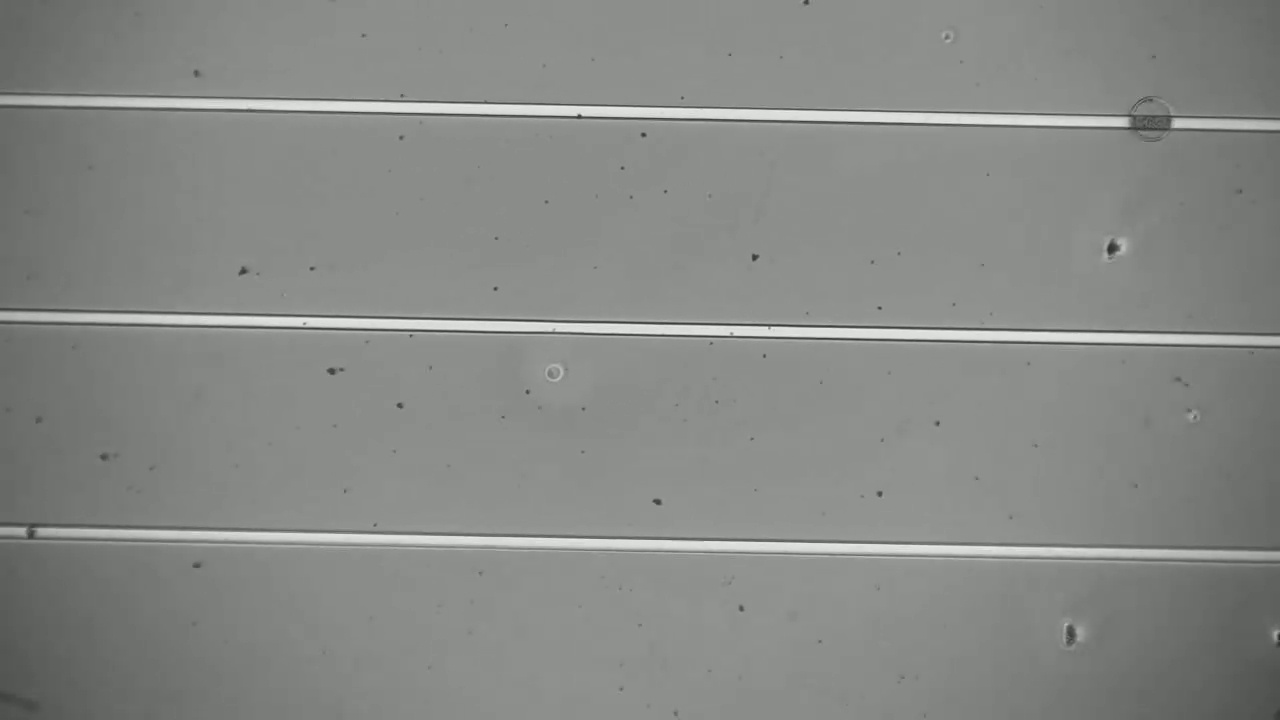gray_line: (1107, 104, 1190, 144)
stains_enbedded: (12, 516, 46, 553)
